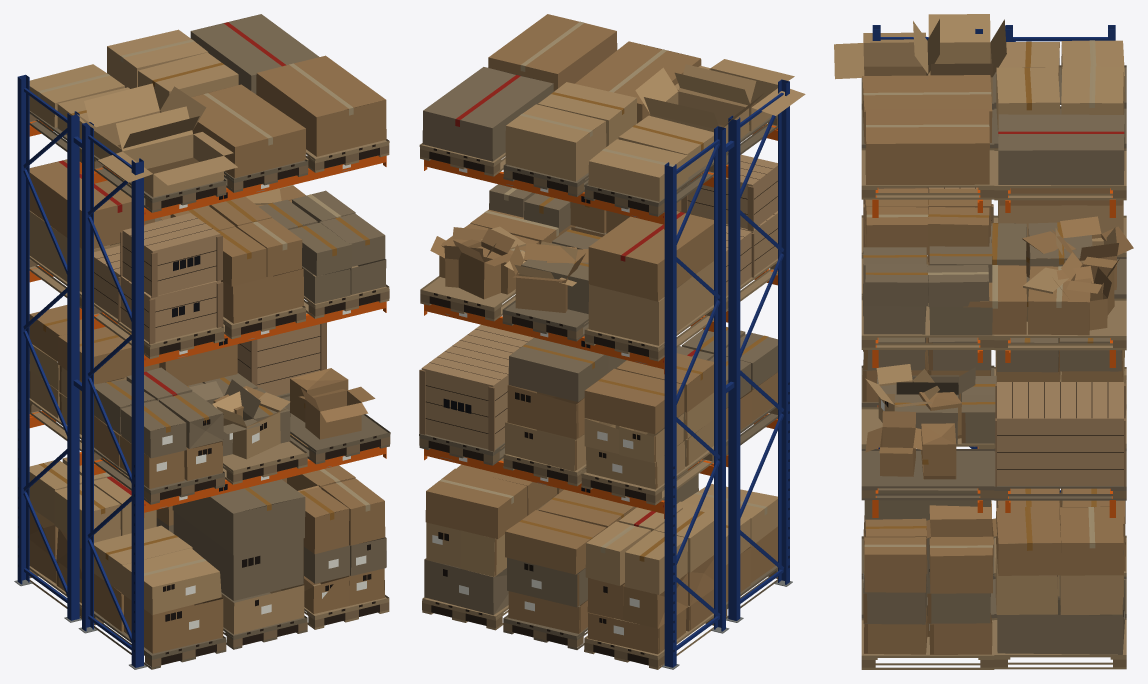
Rendered from rack.glb.
3 views of the same model, side by side, from view 1: azimuth 30°, elevation 25°; view 2: azimuth 150°, elevation 25°; view 3: azimuth 270°, elevation 25° (orthographic). The views are drawn at different scales.
Visible parts, largest first — view 1: rack12, rack15, rack18, rack0, rack22, rack9, rack19, rack4, rack11, rack10, rack17, rack23 (+5 smaller); view 2: rack12, rack15, rack0, rack18, rack22, rack19, rack4, rack9, rack11, rack10, rack17, rack16 (+4 smaller); view 3: rack12, rack18, rack15, rack22, rack19, rack9, rack16, rack17, rack10, rack4, rack14, rack0 (+3 smaller).
Boxes of the visible parts, x1,y1,x2,y2 form: rack12: (29, 55, 386, 653); rack15: (29, 29, 304, 634); rack18: (94, 14, 386, 600); rack0: (17, 74, 143, 667); rack22: (94, 213, 320, 395); rack9: (29, 111, 390, 669); rack19: (29, 110, 389, 629); rack4: (29, 120, 386, 517); rack11: (94, 144, 380, 664); rack10: (29, 114, 390, 667); rack17: (39, 62, 369, 560); rack23: (118, 231, 326, 386); rack12: (425, 14, 777, 654); rack15: (426, 59, 805, 594); rack0: (664, 79, 789, 667); rack18: (422, 67, 777, 615); rack22: (421, 152, 777, 449); rack19: (419, 67, 777, 669); rack4: (424, 124, 777, 518); rack9: (419, 115, 777, 649); rack11: (425, 148, 777, 665); rack10: (419, 118, 777, 667); rack17: (519, 92, 768, 561); rack16: (439, 21, 767, 553); rack12: (862, 75, 1133, 654); rack18: (863, 114, 1125, 654); rack15: (834, 14, 1126, 614); rack22: (865, 187, 1123, 485); rack19: (861, 148, 1126, 669); rack9: (861, 65, 1126, 618); rack16: (863, 40, 1096, 549); rack17: (863, 41, 1096, 550); rack10: (861, 148, 1126, 667); rack4: (872, 188, 1115, 517); rack14: (862, 338, 1126, 654); rack0: (872, 25, 1115, 492).
Size of the model in its own units: 2.88 by 5.33 by 2.72.
